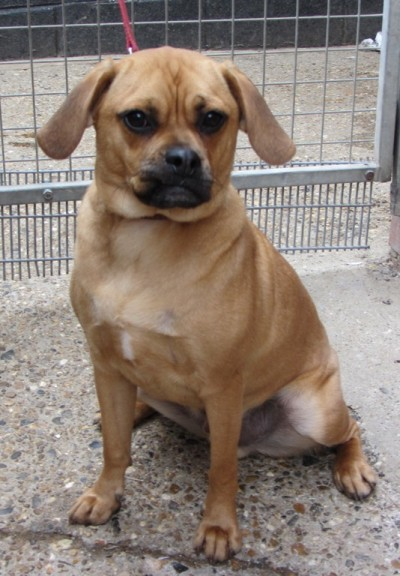dog: (24, 45, 384, 565)
